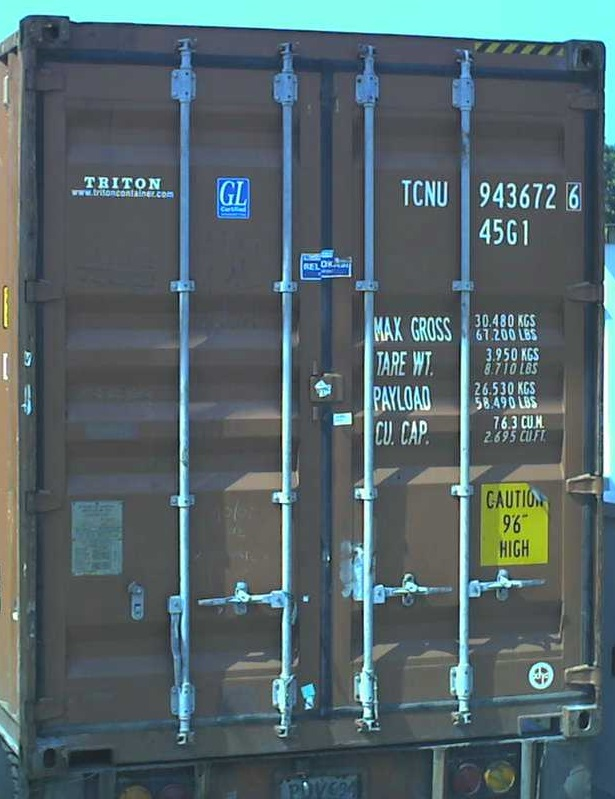container_door: (18, 23, 607, 777)
